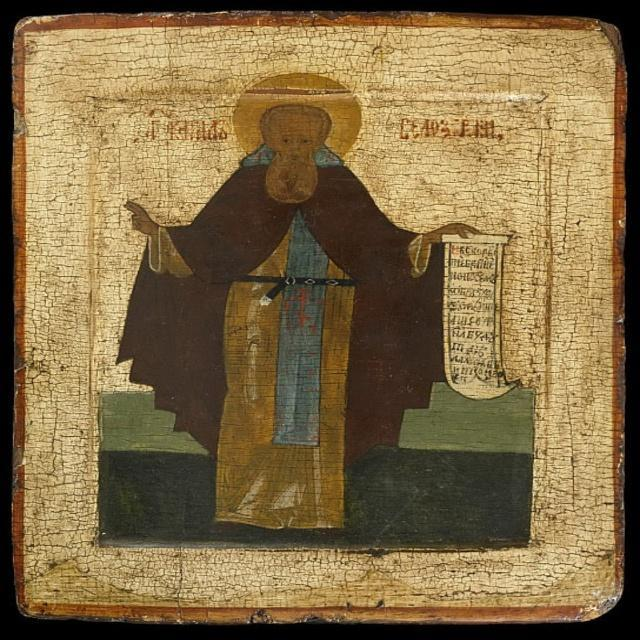aura: (235, 67, 365, 171)
christ_hand: (121, 197, 171, 243)
saint: (179, 66, 412, 532)
scroll: (436, 226, 532, 405)
